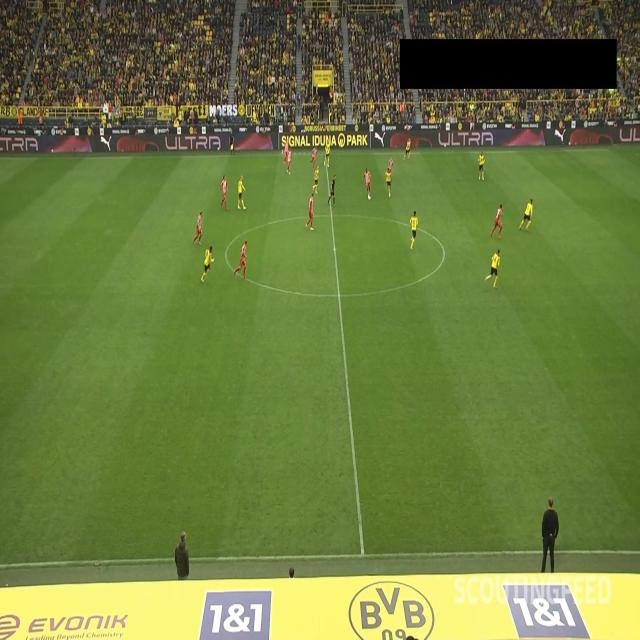ball: (368, 194, 371, 200)
